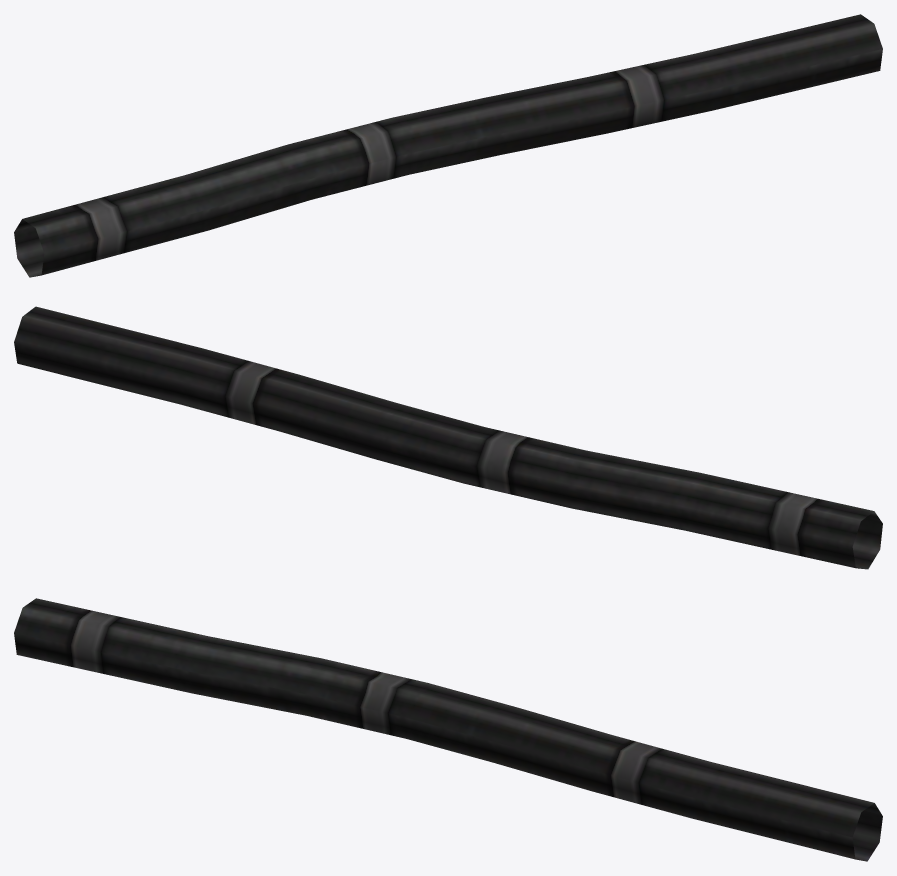
File: lab_thick_straight_med.dae
The picture shows the model from 3 angles, top to bottom: view 1: azimuth 30°, elevation 25°; view 2: azimuth 150°, elevation 25°; view 3: azimuth 330°, elevation 25°; orthographic projection.
Parts seen in each view (by area): view 1: straight_med; view 2: straight_med; view 3: straight_med.
Part boxes in pixels (left/top/right/bottom): straight_med: left=14, top=14, right=882, bottom=277; straight_med: left=14, top=306, right=882, bottom=569; straight_med: left=14, top=598, right=882, bottom=861.
Bounding box in the file's own units: 2 × 0.1228 × 0.1718.
